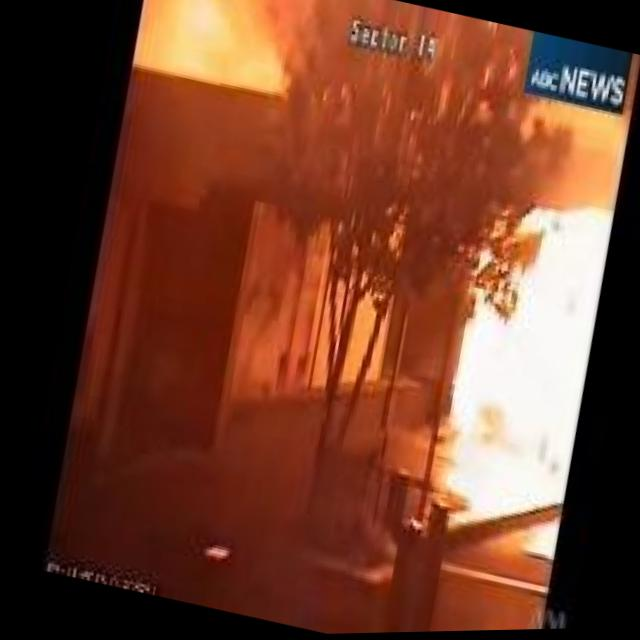fire: (377, 173, 635, 576)
